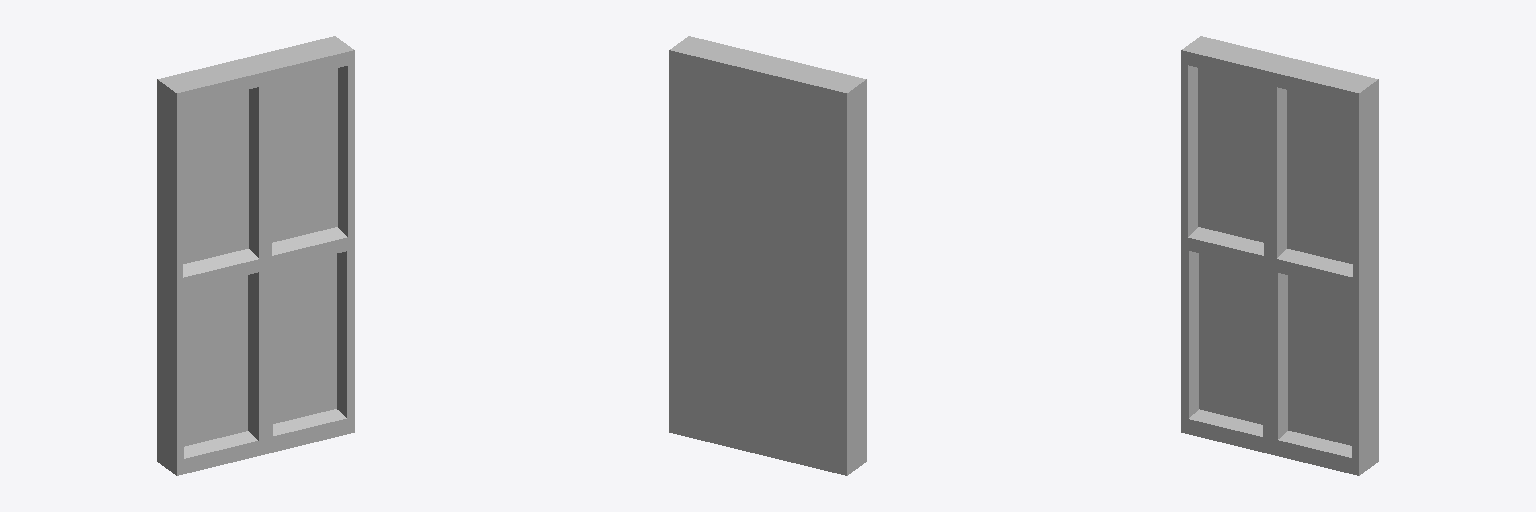
File: Window.obj
The picture shows the model from 3 angles: view 1: azimuth 30°, elevation 25°; view 2: azimuth 150°, elevation 25°; view 3: azimuth 330°, elevation 25°; orthographic projection.
Visible parts, largest first — view 1: pCube2; view 2: pCube2; view 3: pCube2.
Boxes of the visible parts, box(x1,y1,x2,y2) form: pCube2: box(157, 36, 354, 475); pCube2: box(669, 36, 866, 475); pCube2: box(1181, 36, 1378, 475).
Bounding box in the file's own units: 4.38 × 9.02 × 0.8292.